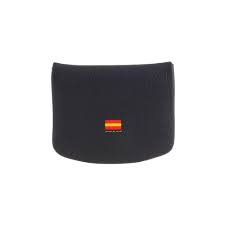monedero: (51, 61, 175, 164)
